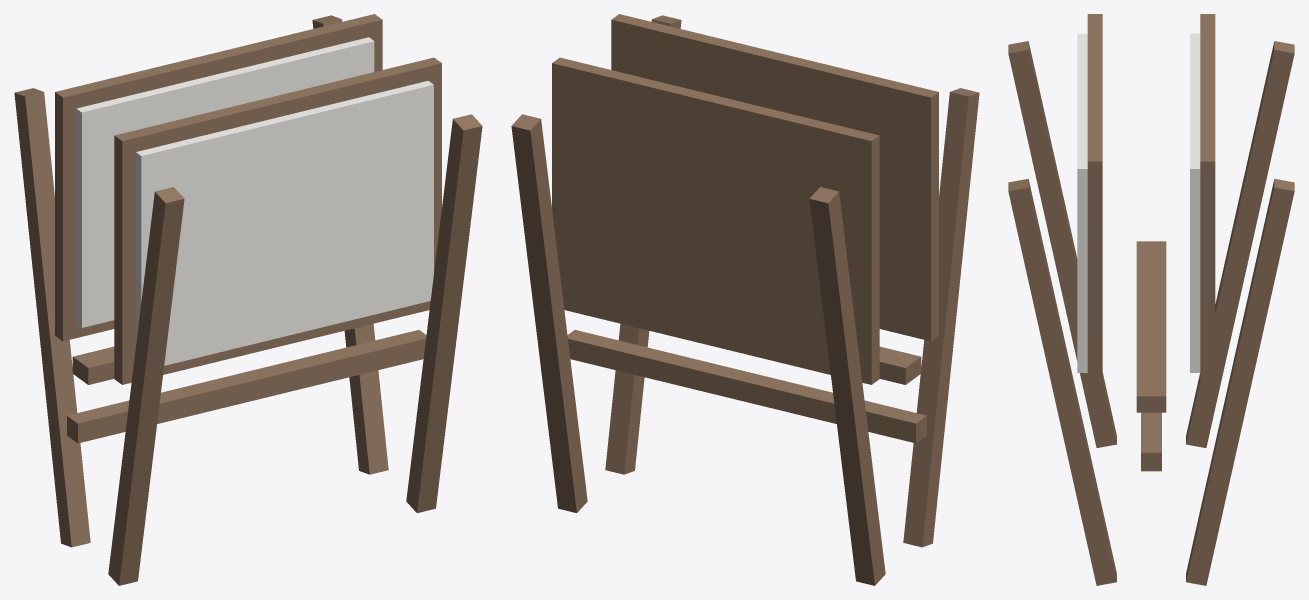
The model's file is hot-air-balloon-festival-briefing-board-81a73204.glb.
The picture shows the model from 3 angles, left to right: view 1: azimuth 30°, elevation 25°; view 2: azimuth 150°, elevation 25°; view 3: azimuth 270°, elevation 25°; orthographic projection. The views are drawn at different scales.
Visible parts, largest first — view 1: briefing-board-leather, briefing-board-canvasB; view 2: briefing-board-leather; view 3: briefing-board-leather, briefing-board-canvasB.
Part boxes in pixels (x1,y1,x2,y2): briefing-board-leather: (14, 14, 482, 585); briefing-board-canvasB: (76, 37, 433, 365); briefing-board-leather: (511, 14, 979, 585); briefing-board-leather: (1008, 14, 1294, 585); briefing-board-canvasB: (1077, 33, 1200, 372).
Bounding box in the file's own units: 1.3 × 1.58 × 0.9667.
